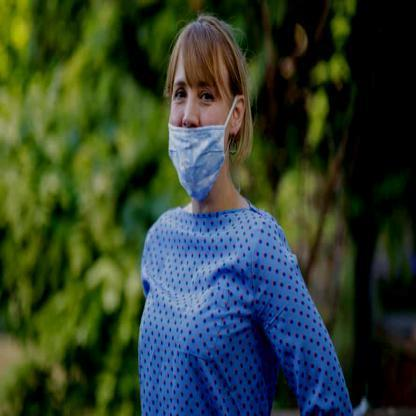mask_weared_incorrect: (166, 21, 246, 204)
